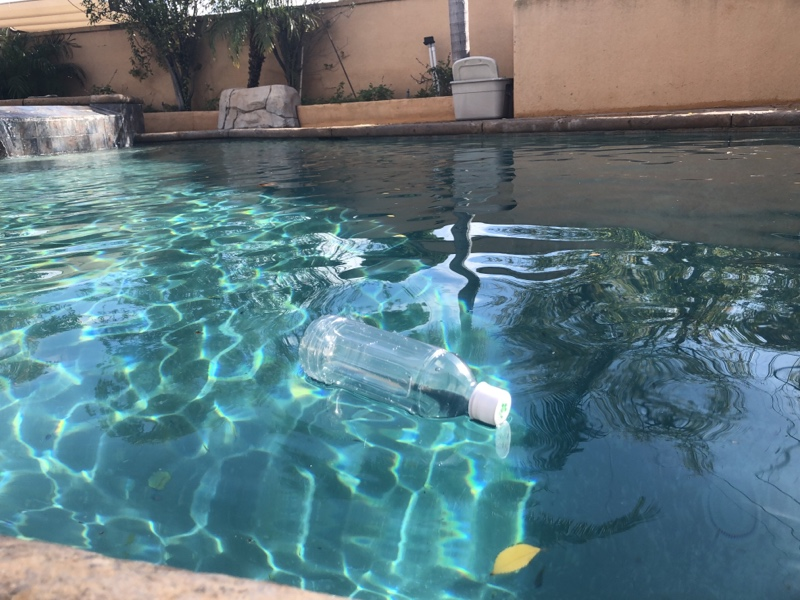Plastic Bottle: (294, 309, 512, 434)
